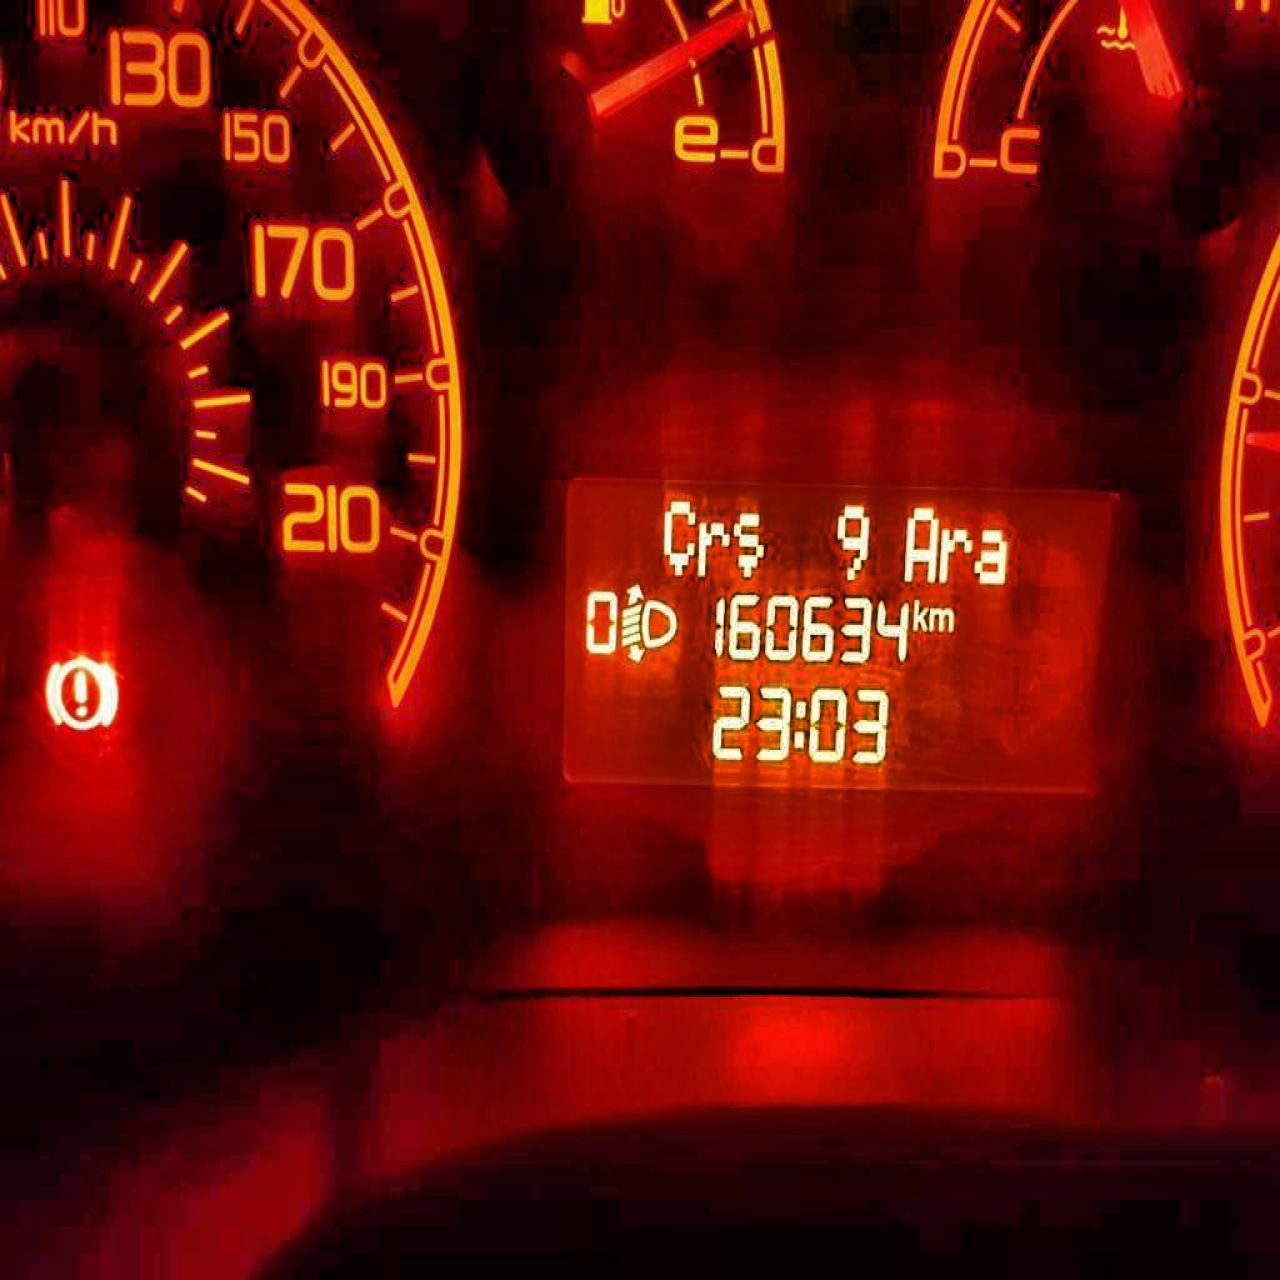0: (808, 682, 846, 765), (761, 590, 798, 663), (581, 584, 619, 656)
1: (709, 592, 726, 659)
2: (709, 680, 751, 762)
3: (753, 682, 791, 763), (850, 683, 888, 764), (837, 592, 872, 663)
4: (872, 594, 908, 663)
6: (799, 590, 835, 663), (728, 588, 761, 662)
9: (831, 501, 870, 581)
X: (658, 496, 695, 577), (901, 502, 938, 584), (730, 506, 765, 580), (972, 523, 1009, 587), (939, 522, 972, 584), (695, 517, 729, 577), (927, 604, 955, 633), (792, 695, 806, 750), (912, 592, 927, 633)
odometer: (556, 477, 1121, 802)
